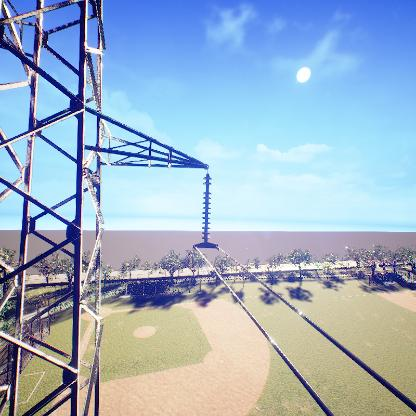insulator: (201, 173, 214, 243)
